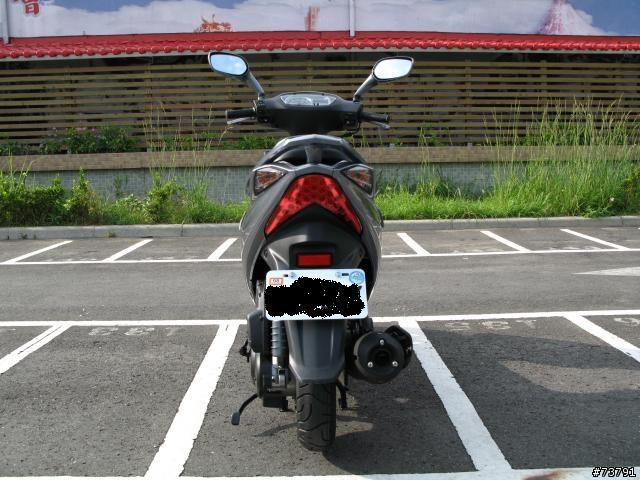motorcycle: (201, 44, 425, 453)
